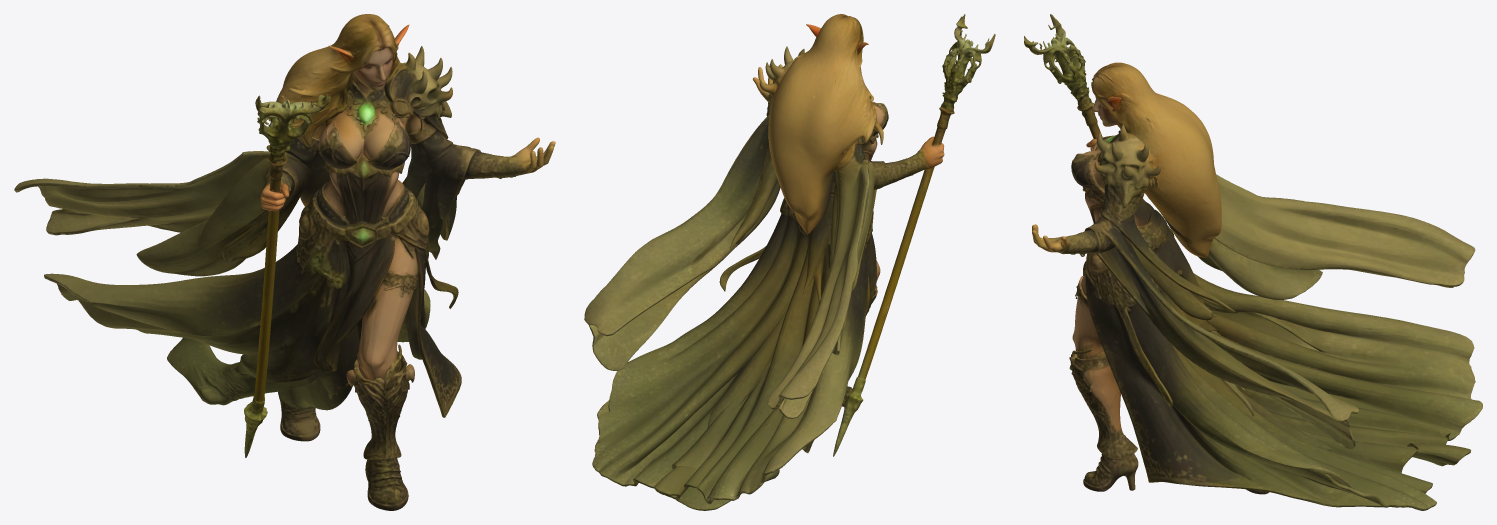
The model's file is elf_warlock_full_female_01.glb.
3 renders of one model, left to right at view 1: azimuth 30°, elevation 25°; view 2: azimuth 150°, elevation 25°; view 3: azimuth 270°, elevation 25°, orthographic. The views are drawn at different scales.
Visible parts, largest first — view 1: material; view 2: material; view 3: material.
Part boxes in pixels (x1=…): material: x1=14, y1=14, x2=555, y2=510; material: x1=584, y1=14, x2=995, y2=510; material: x1=1024, y1=14, x2=1482, y2=510.
Size of the model in its own units: 0.6146 by 0.811 by 0.8093.
Materials: 1 (1 with a texture image).
